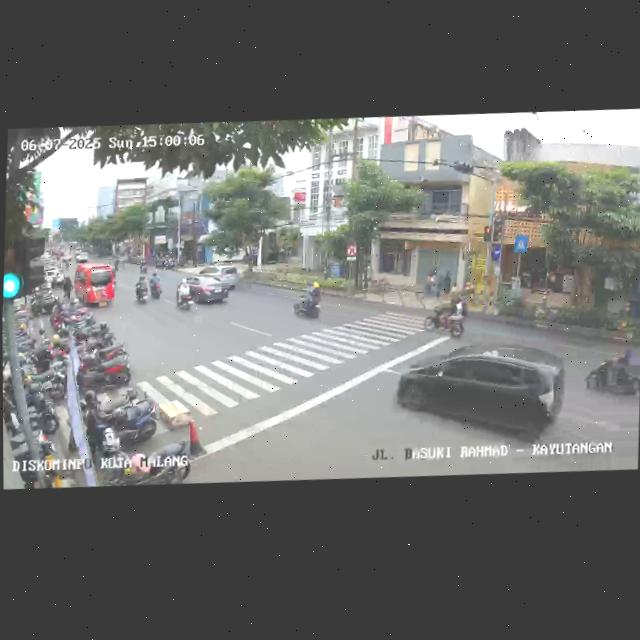car: (395, 338, 566, 455), (73, 261, 117, 311), (181, 273, 231, 310)
motorcycle: (583, 342, 640, 405), (428, 294, 467, 342), (292, 281, 323, 324), (174, 274, 193, 312), (134, 268, 151, 307), (151, 268, 162, 301)
